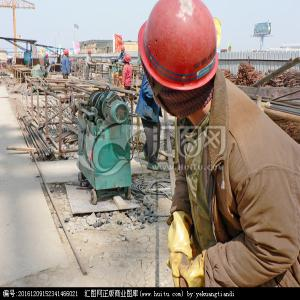red: (140, 2, 217, 122), (124, 55, 132, 66), (64, 49, 70, 58), (121, 46, 125, 54), (89, 50, 93, 56)
